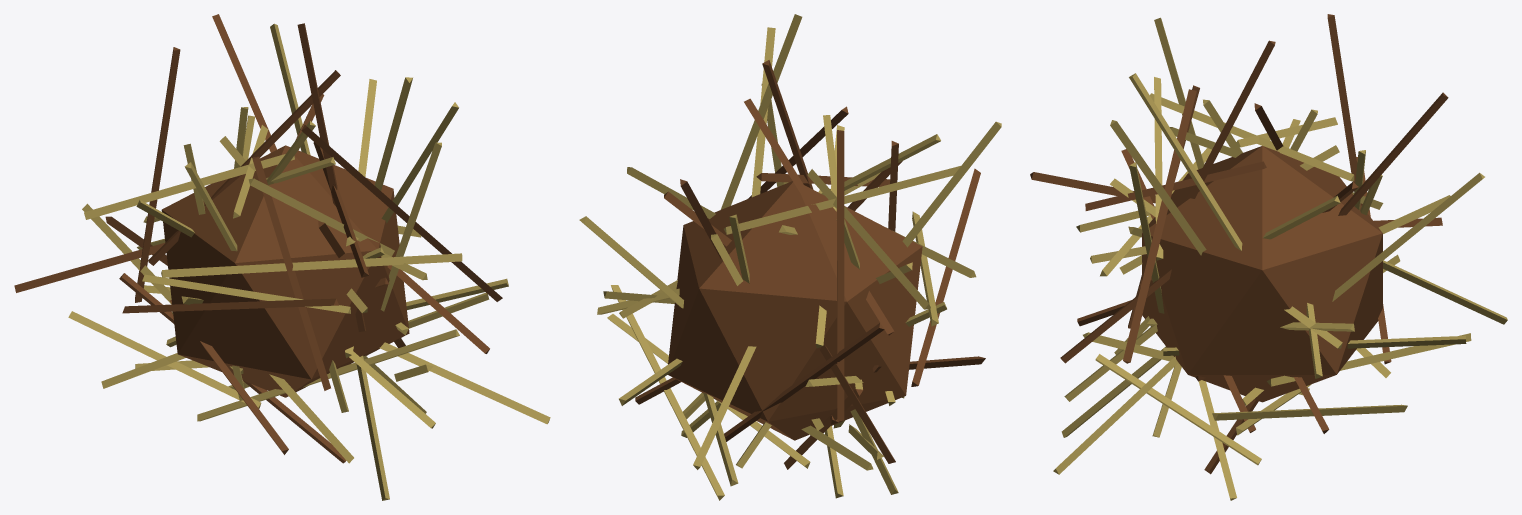
Rendered from SM_Tumbleweed.obj.
The picture shows the model from 3 angles, left to right: view 1: azimuth 30°, elevation 25°; view 2: azimuth 150°, elevation 25°; view 3: azimuth 270°, elevation 25°; orthographic projection. The views are drawn at different scales.
Parts seen in each view (by area): view 1: SM_Tumbleweed; view 2: SM_Tumbleweed; view 3: SM_Tumbleweed.
Boxes of the visible parts, x1,y1,x2,y2 form: SM_Tumbleweed: (14,14,550,500); SM_Tumbleweed: (579,14,1001,500); SM_Tumbleweed: (1030,14,1507,500).
Size of the model in its own units: 0.9545 by 1 by 1.01.
